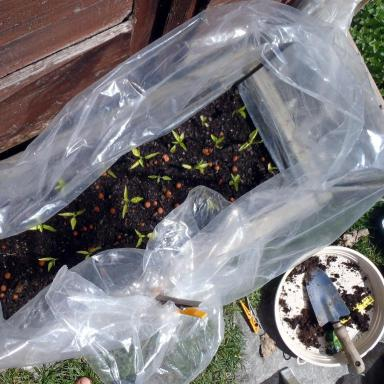plant: (0, 180, 384, 383), (346, 0, 384, 102), (122, 184, 145, 222), (56, 208, 86, 235), (130, 144, 161, 169), (236, 128, 264, 153), (23, 220, 57, 234), (180, 156, 208, 173), (169, 130, 188, 155), (75, 245, 102, 262), (132, 231, 161, 246), (37, 254, 58, 270), (226, 173, 242, 191), (148, 173, 172, 184), (208, 136, 224, 150), (265, 161, 278, 177), (53, 180, 68, 192), (233, 105, 246, 118), (105, 170, 117, 182), (198, 116, 208, 130)
plasticbag: (0, 0, 384, 384)
